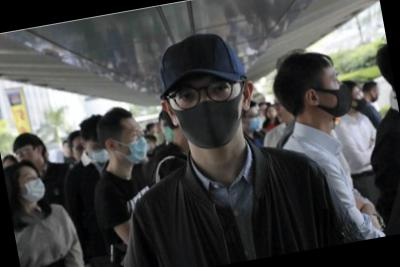with_mask: (170, 71, 251, 152), (314, 68, 358, 122), (114, 124, 152, 165), (16, 169, 48, 206), (87, 139, 112, 166), (351, 88, 369, 116), (246, 111, 264, 132)
without_mask: (16, 143, 41, 171)
